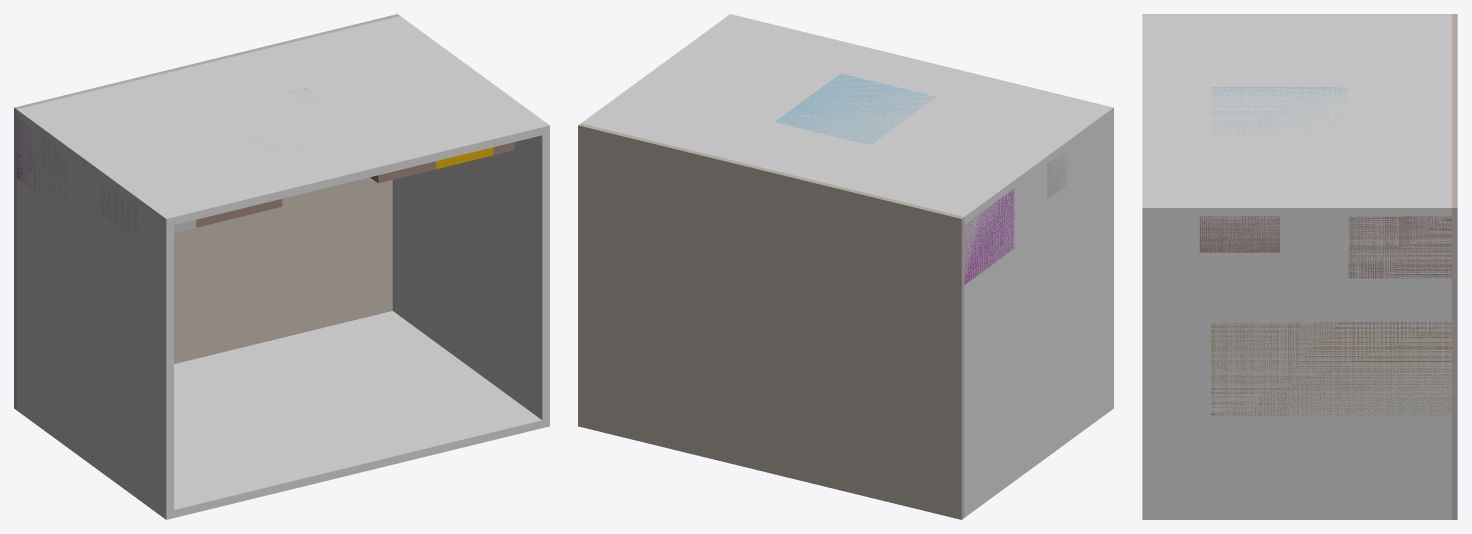
The model's file is kitchen_20251229_140437.glb.
The picture shows the model from 3 angles, left to right: view 1: azimuth 30°, elevation 25°; view 2: azimuth 150°, elevation 25°; view 3: azimuth 270°, elevation 25°; orthographic projection. The views are drawn at different scales.
Parts seen in each view (by area): view 1: world; view 2: world; view 3: world.
Part boxes in pixels (x1=…): world: x1=14, y1=14, x2=549, y2=519; world: x1=578, y1=14, x2=1113, y2=519; world: x1=1142, y1=14, x2=1457, y2=519.
Size of the model in its own units: 400 by 300 by 275.
